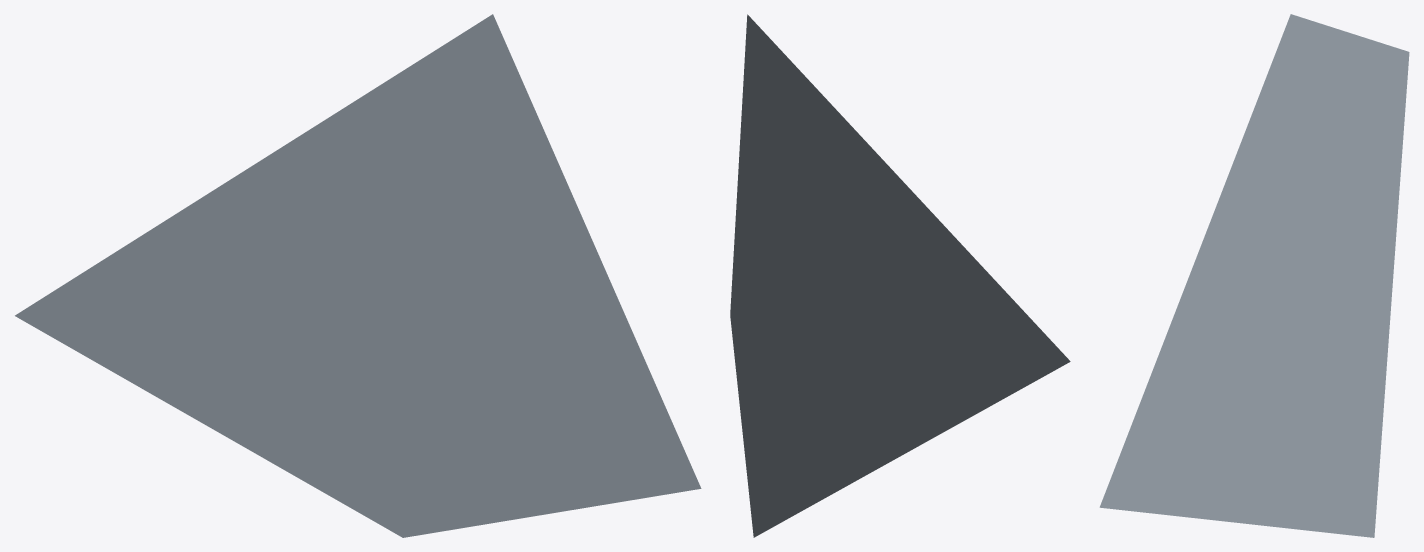
Rendered from triquetrohamate-ligament-r.glb.
3 views of the same model, side by side, from view 1: azimuth 30°, elevation 25°; view 2: azimuth 150°, elevation 25°; view 3: azimuth 270°, elevation 25° (orthographic). The views are drawn at different scales.
Visible parts, largest first — view 1: Triquetrohamate ligament.r; view 2: Triquetrohamate ligament.r; view 3: Triquetrohamate ligament.r.
Boxes of the visible parts, x1,y1,x2,y2 form: Triquetrohamate ligament.r: (15,14,701,537); Triquetrohamate ligament.r: (730,14,1070,537); Triquetrohamate ligament.r: (1099,14,1409,537).
Bounding box in the file's own units: 0.00585 × 0.00568 × 0.00291.
